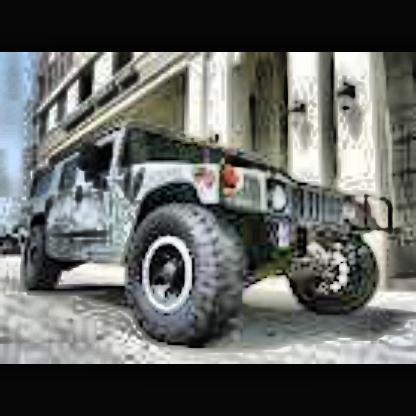AM General Hummer SUV 2000: (10, 122, 401, 349)
